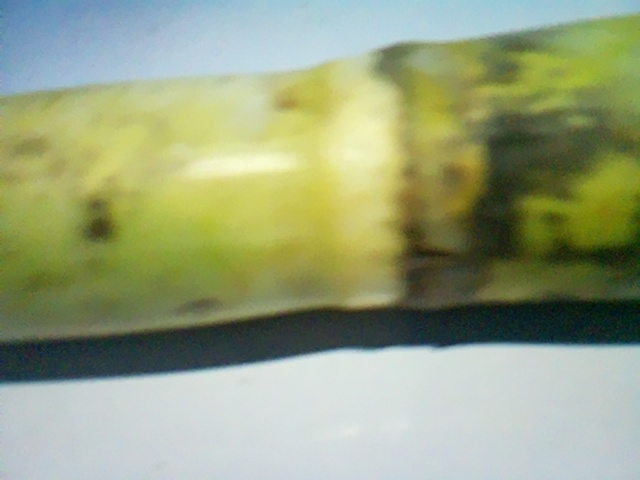Good Sugarcane: (0, 14, 636, 306)
Node: (283, 35, 470, 312)
